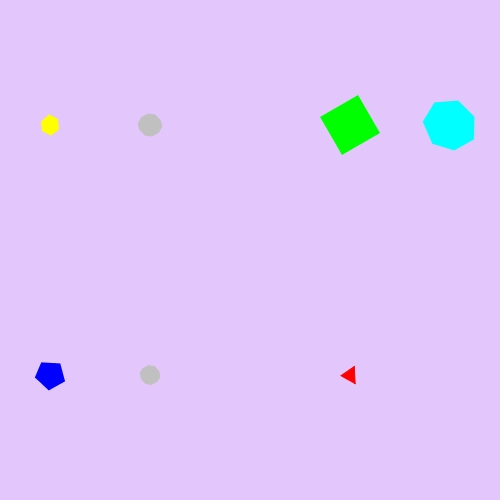decagon: (134, 110, 167, 141), (135, 361, 165, 389)
heptagon: (420, 97, 480, 154)
hexagon: (35, 112, 65, 138)
pentagon: (32, 357, 69, 394)
quadrilateral: (317, 92, 384, 159)
triangle: (338, 362, 363, 388)
